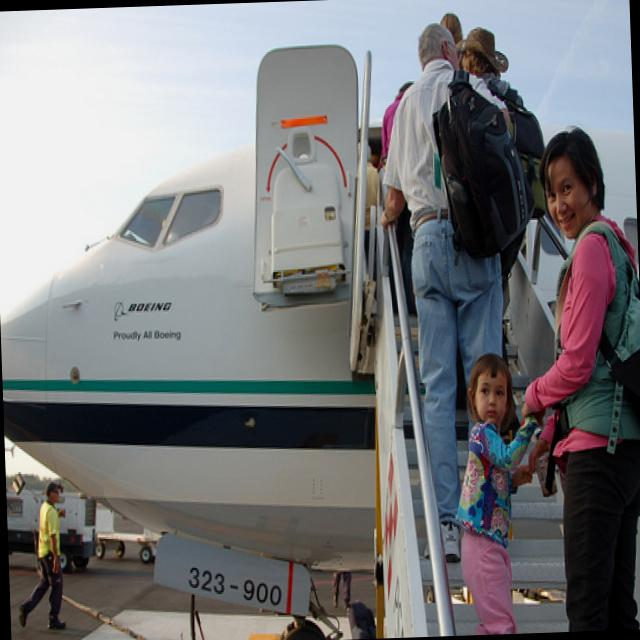Vehicle: (6, 488, 162, 568)
